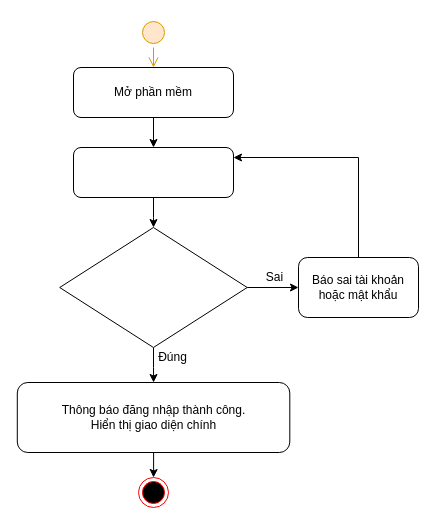
Image size: 437x525. Some labels were removed from this diagram. Here are the shapes that lost their labels. From the top down, the centre of each, then its label:
At pixel 153 172: "Nhập tài khoản, mật khẩu".
At pixel 153 287: "Kiểm tra tài khoản, mật khẩu".
